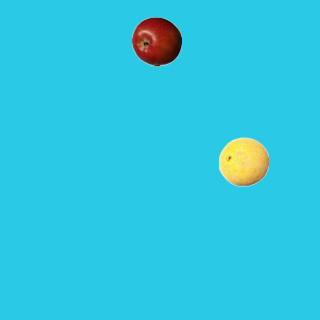Apple Braeburn: (131, 16, 181, 66)
Cantaloupe 1: (218, 136, 268, 186)
